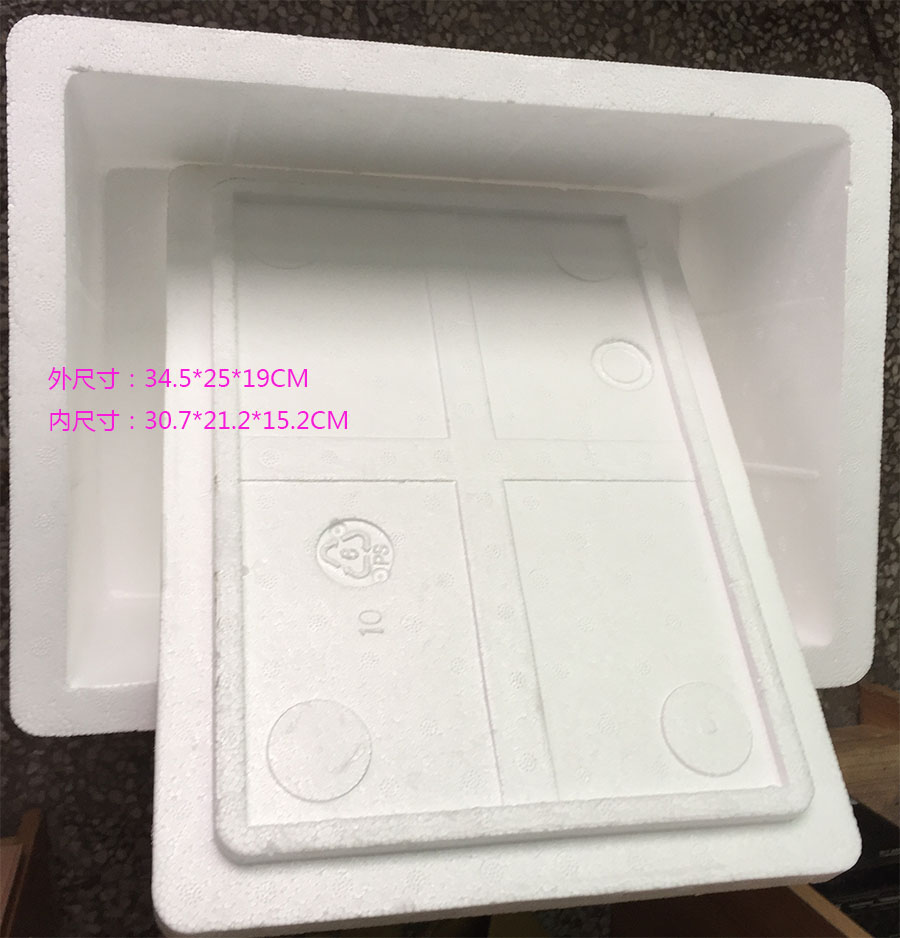Boxes: (7, 17, 888, 938)
